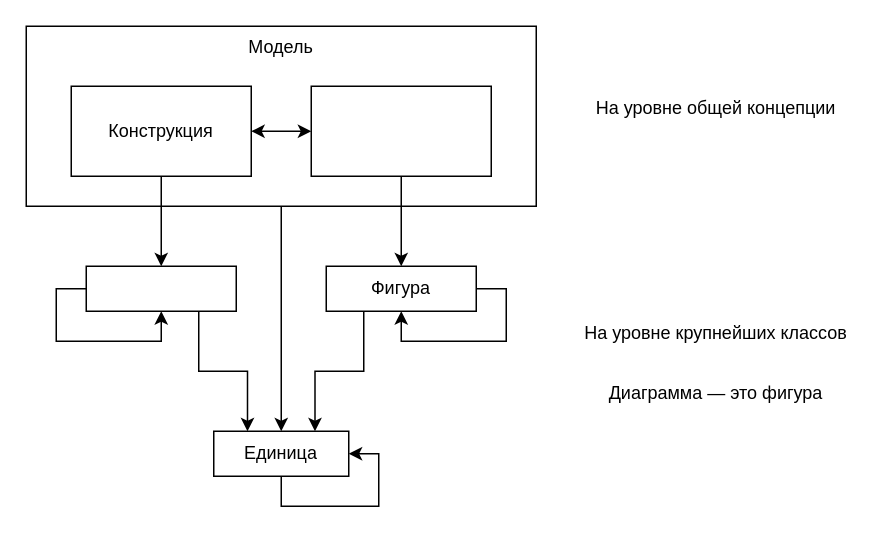
Some shapes in this 878 by 545 pixel diagram are drawn without their labels. The centre of each missing label's shape, as x and y in pixels:
"Диаграмма" belongs at pixel 400 130.
"Узел" belongs at pixel 160 288.
